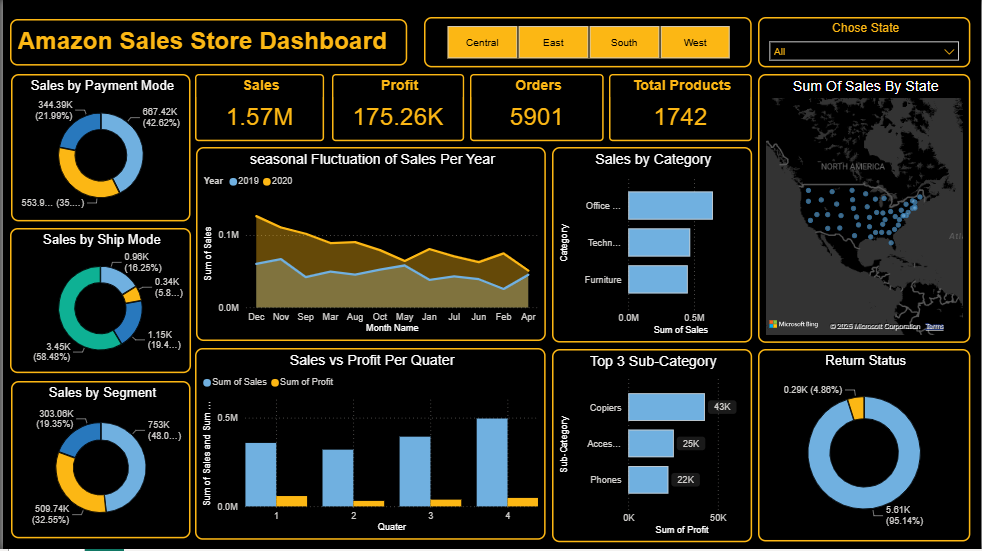

The page's visual inventory and layout, read from the dashboard file:
{"tool":"powerbi","page":{"name":"Page 1","canvas":[1280,720],"ordinal":0},"visuals":[{"type":"clusteredBarChart","title":"Sales by Category","fields":{"Category":["Amazon Store Sales Data xlsx - Sheet1 (1).Category"],"Y":["Sum(Amazon Store Sales Data xlsx - Sheet1 (1).Sales)"]},"box":[718.5,194.1,261.5,256],"z":0},{"type":"clusteredBarChart","title":"  Top 3 Sub-Category","fields":{"Category":["Amazon Store Sales Data xlsx - Sheet1 (1).Sub-Category"],"Y":["Sum(Amazon Store Sales Data xlsx - Sheet1 (1).Profit)"]},"box":[718.5,458.3,261.5,253.2],"z":1000},{"type":"donutChart","title":"Sales by Segment","fields":{"Y":["Sum(Amazon Store Sales Data xlsx - Sheet1 (1).Sales)"],"Category":["Amazon Store Sales Data xlsx - Sheet1 (1).Segment"]},"box":[11,499.6,235.4,206.5],"z":2000},{"type":"donutChart","title":"Sales by Ship Mode","fields":{"Series":["Amazon Store Sales Data xlsx - Sheet1 (1).Ship Mode"],"Y":["CountNonNull(Amazon Store Sales Data xlsx - Sheet1 (1).Product ID)"]},"box":[9.6,300,236.7,189.9],"z":3000},{"type":"donutChart","title":"Sales by Payment Mode","fields":{"Y":["Sum(Amazon Store Sales Data xlsx - Sheet1 (1).Sales)"],"Category":["Amazon Store Sales Data xlsx - Sheet1 (1).Payment Mode"]},"box":[11,97.7,235.4,192.7],"z":4000},{"type":"areaChart","title":" seasonal Fluctuation of Sales Per Year","fields":{"Y":["Sum(Amazon Store Sales Data xlsx - Sheet1 (1).Sales)"],"Series":["Amazon Store Sales Data xlsx - Sheet1 (1).Year"],"Category":["Amazon Store Sales Data xlsx - Sheet1 (1).Month Name"]},"box":[252,194,458,254],"z":5000},{"type":"clusteredColumnChart","title":"Sales vs Profit Per Quater","fields":{"Category":["Amazon Store Sales Data xlsx - Sheet1 (1).Quater"],"Y":["Sum(Amazon Store Sales Data xlsx - Sheet1 (1).Sales)","Sum(Amazon Store Sales Data xlsx - Sheet1 (1).Profit)"]},"box":[251.3,456.9,459.5,251.3],"z":6000},{"type":"map","title":" Sum Of Sales By State","fields":{"Category":["Amazon Store Sales Data xlsx - Sheet1 (1).State"]},"box":[988.2,97.7,278,352.3],"z":7000},{"type":"slicer","fields":{"Values":["Amazon Store Sales Data xlsx - Sheet1 (1).Region"]},"box":[550.5,23.4,429.4,66.1],"z":8000},{"type":"pieChart","title":"Return Status","fields":{"Category":["Amazon Store Sales Data xlsx - Sheet1 (1).Return Status"],"Y":["CountNonNull(Amazon Store Sales Data xlsx - Sheet1 (1).Order ID)"]},"box":[988.2,458.3,278,251.9],"z":9000},{"type":"slicer","title":"Chose State","fields":{"Values":["Amazon Store Sales Data xlsx - Sheet1 (1).State"]},"box":[988.2,23.4,278,66.1],"z":10000},{"type":"card","title":"Total Products","fields":{"Values":["Count(Amazon Store Sales Data xlsx - Sheet1 (1).Product Name)"]},"box":[793.3,98.2,187.2,87.7],"z":11000},{"type":"card","title":"Orders","fields":{"Values":["CountNonNull(Amazon Store Sales Data xlsx - Sheet1 (1).Order ID)"]},"box":[611.3,98.2,175.4,87.7],"z":12000},{"type":"card","title":"Profit","fields":{"Values":["Sum(Amazon Store Sales Data xlsx - Sheet1 (1).Profit)"]},"box":[430.7,98.2,172.8,87.7],"z":13000},{"type":"card","title":"Sales","fields":{"Values":["Sum(Amazon Store Sales Data xlsx - Sheet1 (1).Sales)"]},"box":[251.9,97.7,169.3,88.1],"z":14000},{"type":"textbox","box":[9.6,26.2,520.3,60.6],"z":15000}]}

Visuals, with their boxes in screenshot pixels (x1, y1, x2, y2), scaled from the page's 1280x720 canvas onto the 982x551 screenshot:
"Sales by Category" clusteredBarChart: [left=551, top=149, right=752, bottom=344]
"  Top 3 Sub-Category" clusteredBarChart: [left=551, top=351, right=752, bottom=544]
"Sales by Segment" donutChart: [left=8, top=382, right=189, bottom=540]
"Sales by Ship Mode" donutChart: [left=7, top=230, right=189, bottom=375]
"Sales by Payment Mode" donutChart: [left=8, top=75, right=189, bottom=222]
" seasonal Fluctuation of Sales Per Year" areaChart: [left=193, top=148, right=545, bottom=343]
"Sales vs Profit Per Quater" clusteredColumnChart: [left=193, top=350, right=545, bottom=542]
" Sum Of Sales By State" map: [left=758, top=75, right=971, bottom=344]
slicer - Amazon Store Sales Data xlsx - Sheet1 (1).Region: [left=422, top=18, right=752, bottom=68]
"Return Status" pieChart: [left=758, top=351, right=971, bottom=544]
"Chose State" slicer: [left=758, top=18, right=971, bottom=68]
"Total Products" card: [left=609, top=75, right=752, bottom=142]
"Orders" card: [left=469, top=75, right=604, bottom=142]
"Profit" card: [left=330, top=75, right=463, bottom=142]
"Sales" card: [left=193, top=75, right=323, bottom=142]
textbox: [left=7, top=20, right=407, bottom=66]
